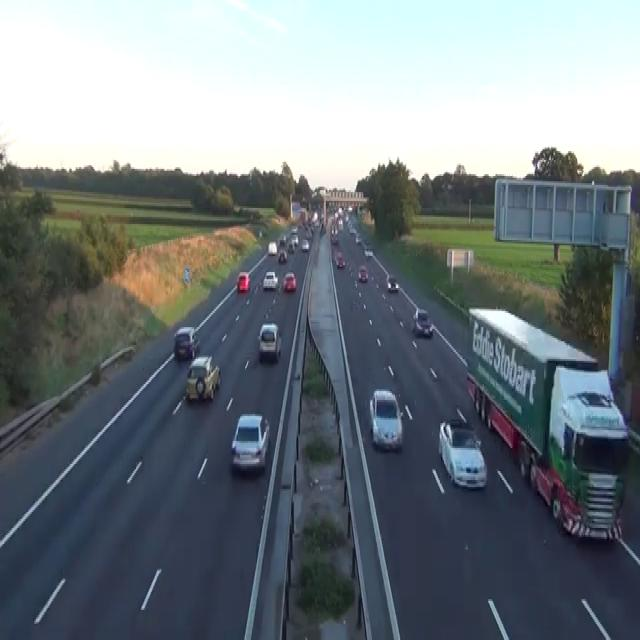Car: (559, 390, 628, 470), (438, 418, 487, 489), (230, 412, 270, 473), (369, 388, 403, 452), (185, 354, 221, 402), (257, 322, 281, 361), (173, 325, 200, 359), (412, 308, 433, 336), (262, 270, 278, 290), (632, 311, 639, 356), (236, 270, 250, 292), (282, 270, 296, 292), (386, 274, 398, 292), (335, 250, 345, 268), (358, 265, 368, 281), (363, 240, 372, 256), (277, 249, 287, 263), (267, 242, 277, 254), (301, 238, 309, 251), (364, 247, 372, 258), (287, 240, 294, 252), (279, 233, 286, 245), (330, 233, 338, 243), (320, 222, 326, 235), (349, 224, 356, 235), (292, 233, 298, 245), (305, 228, 312, 238), (355, 233, 361, 243), (338, 219, 343, 229), (291, 226, 297, 233), (347, 204, 352, 212), (258, 228, 262, 236)
Truck: (465, 306, 629, 542)
